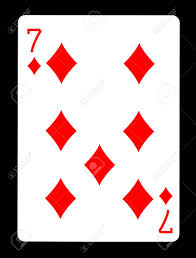seven of diamonds: (18, 16, 180, 242)
